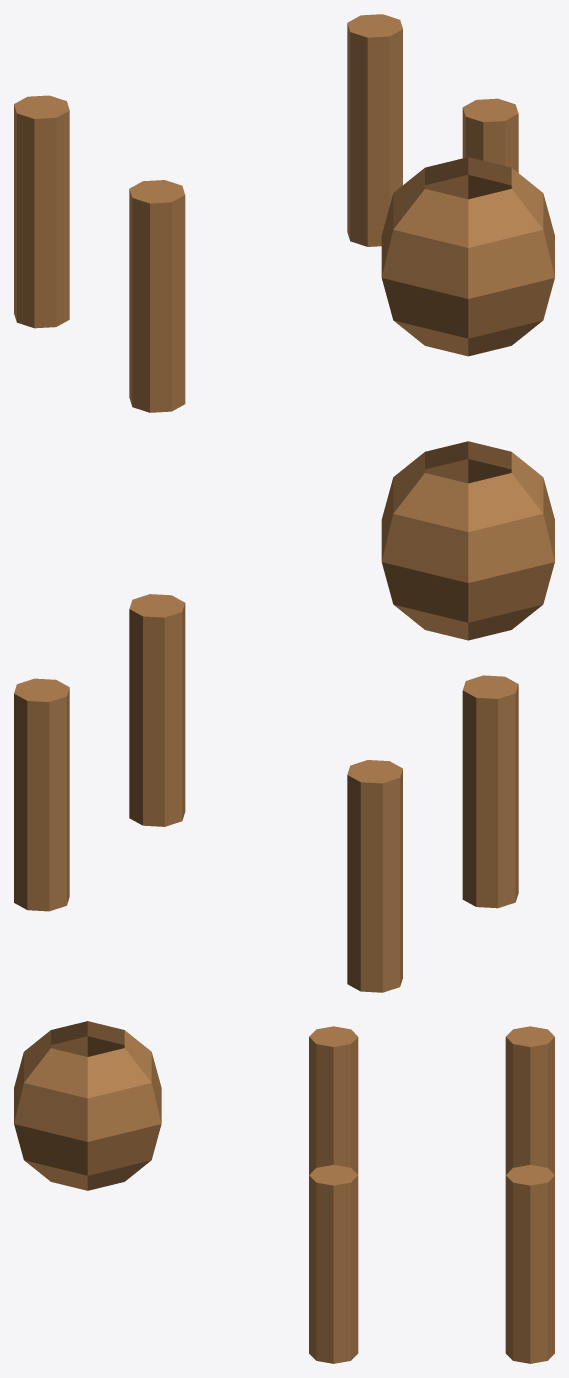
Rendered from quadruped_beast.obj.
The picture shows the model from 3 angles, top to bottom: view 1: azimuth 30°, elevation 25°; view 2: azimuth 150°, elevation 25°; view 3: azimuth 270°, elevation 25°; orthographic projection. The views are drawn at different scales.
Bounding box in the file's own units: 2.3 × 1.65 × 3.3.
